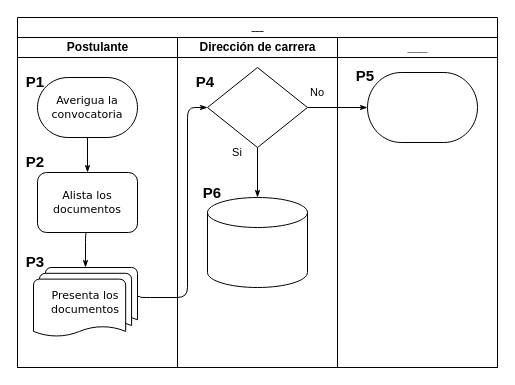
This 515x385 diagram has some shape labels left out. The box of each missing label's shape, as (x1, y1, x2, y2) in pixels:
Notifica la causa de la negación de la inscripción: (366, 72, 478, 142)
Se registra la inscripción: (206, 196, 308, 288)
¿Documentos están al día?: (206, 66, 308, 148)
